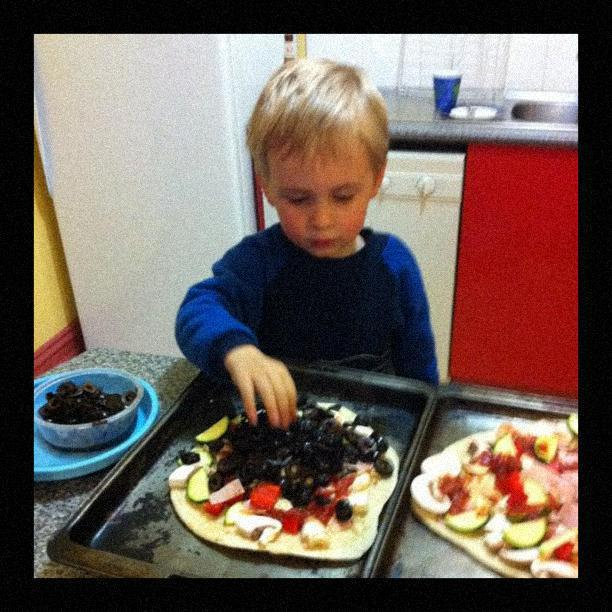Lavaplatos: (509, 80, 577, 125)
